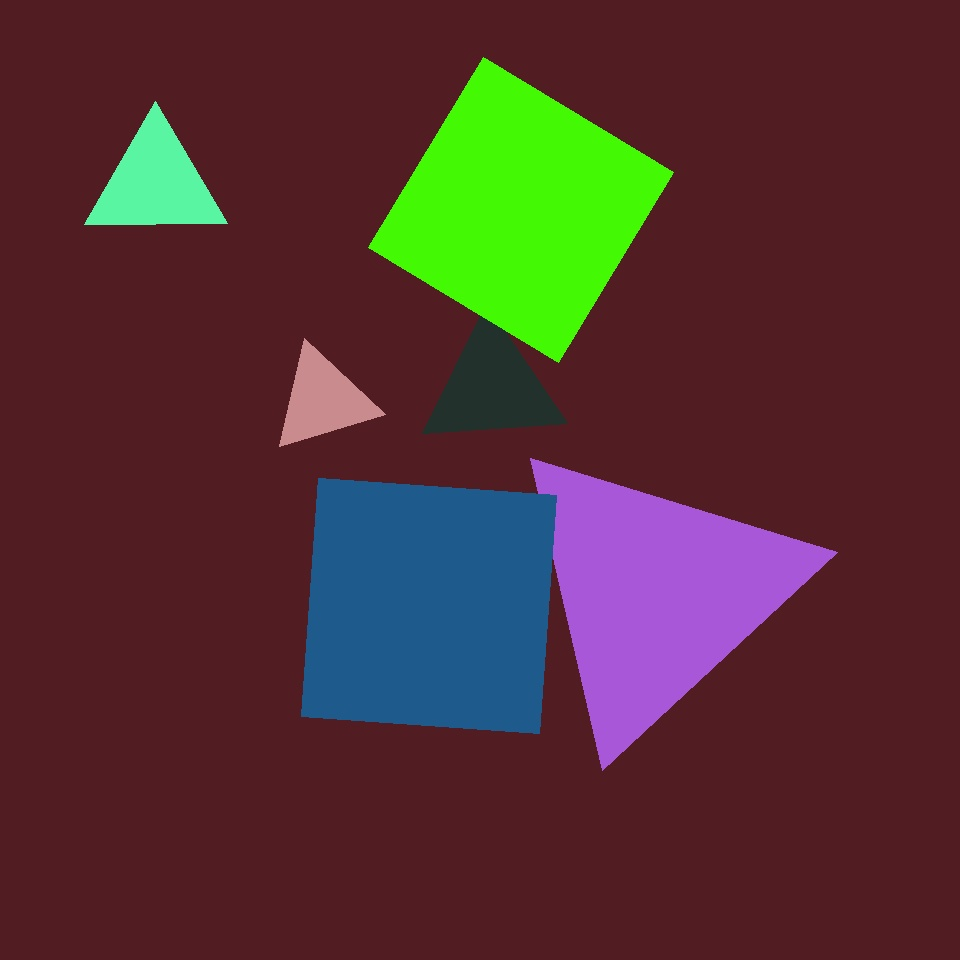circle: (503, 438, 810, 750), (420, 322, 564, 452), (84, 122, 228, 244), (270, 346, 376, 454)
square: (369, 58, 674, 362), (302, 478, 556, 734)
